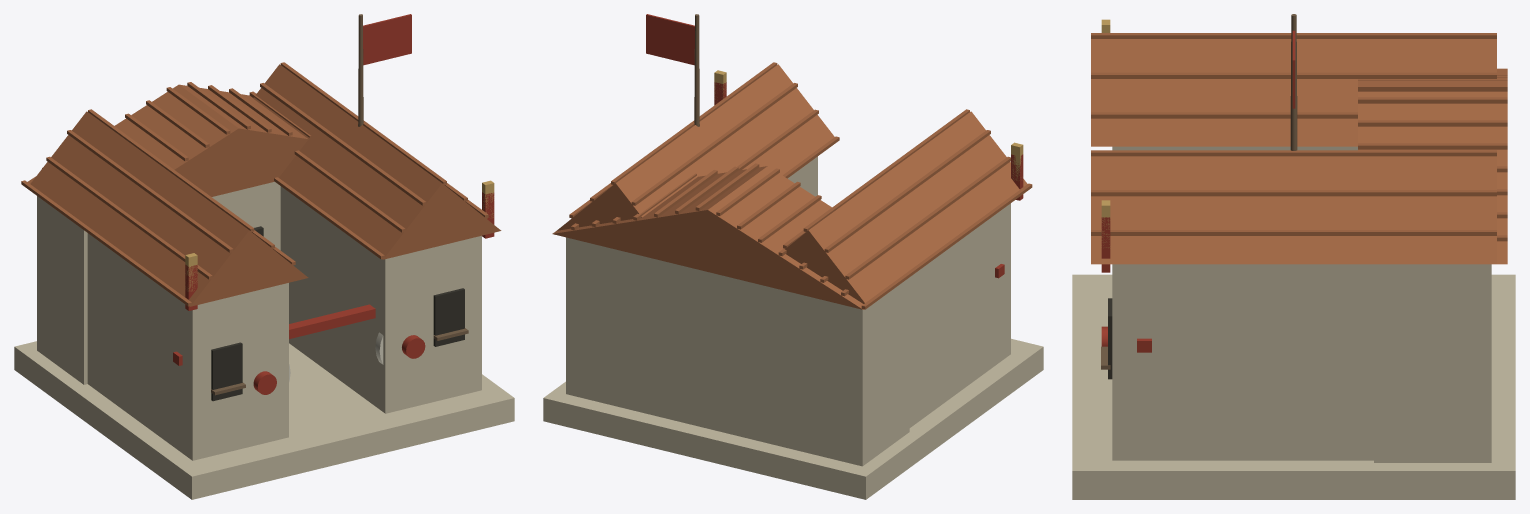
File: b-range-roman.glb
The picture shows the model from 3 angles, left to right: view 1: azimuth 30°, elevation 25°; view 2: azimuth 150°, elevation 25°; view 3: azimuth 270°, elevation 25°; orthographic projection. The views are drawn at different scales.
Parts seen in each view (by area): view 1: Structure, era1, era3; view 2: Structure; view 3: Structure.
Part boxes in pixels (bbox=[...]): Structure: bbox=[14, 14, 514, 499]; era1: bbox=[185, 201, 494, 310]; era3: bbox=[185, 180, 494, 291]; Structure: bbox=[543, 14, 1043, 499]; Structure: bbox=[1072, 14, 1515, 499].
Size of the model in its own units: 4.35 by 4.6 by 4.15.
